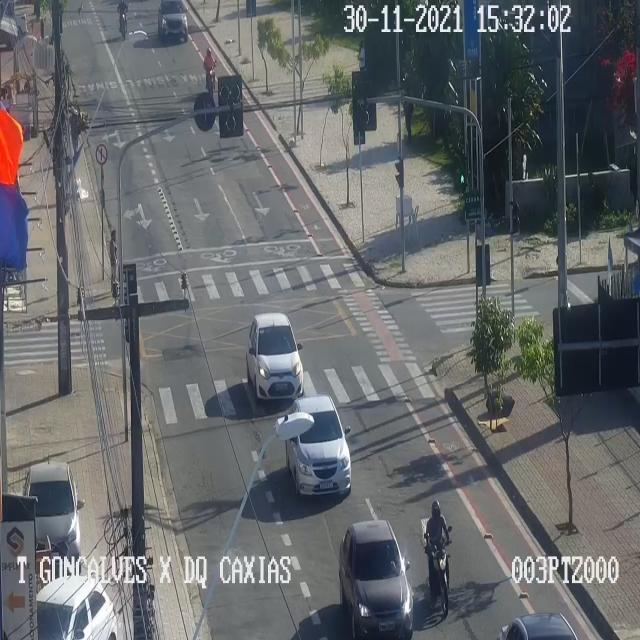Car: (341, 522, 413, 636), (286, 397, 351, 495), (26, 462, 84, 556), (246, 312, 304, 404), (36, 578, 119, 639), (157, 0, 194, 47)
Motorcycle: (424, 499, 452, 614), (202, 48, 218, 103), (119, 2, 132, 39)
